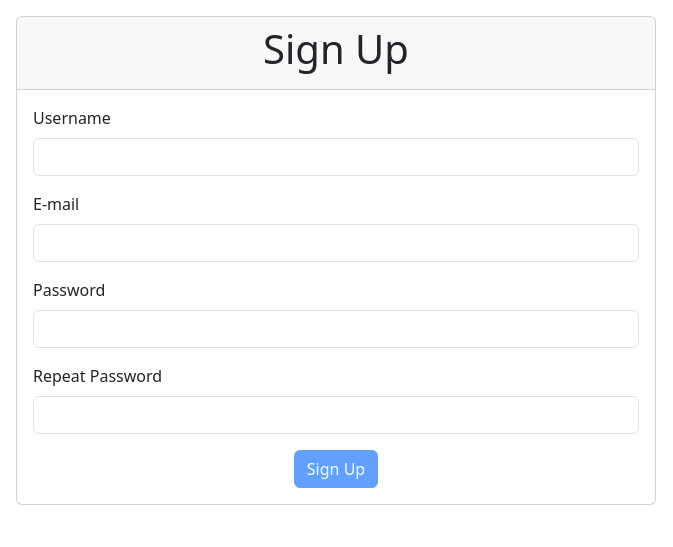
Test: Sign Up Page › Interactions › display E-mail cannot be null for field $field.
Type "GoodUser" into the field labelled "Username".
click(336, 157); type("GoodUser")  # box 33,138 -> 639,176
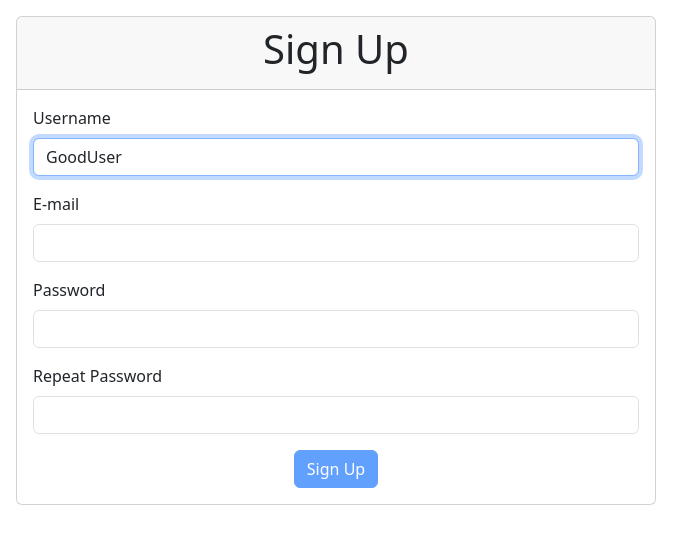
Type "my-email@host.com" into the field labelled "E-mail".
click(336, 243); type("my-email@host.com")  # box 33,224 -> 639,262
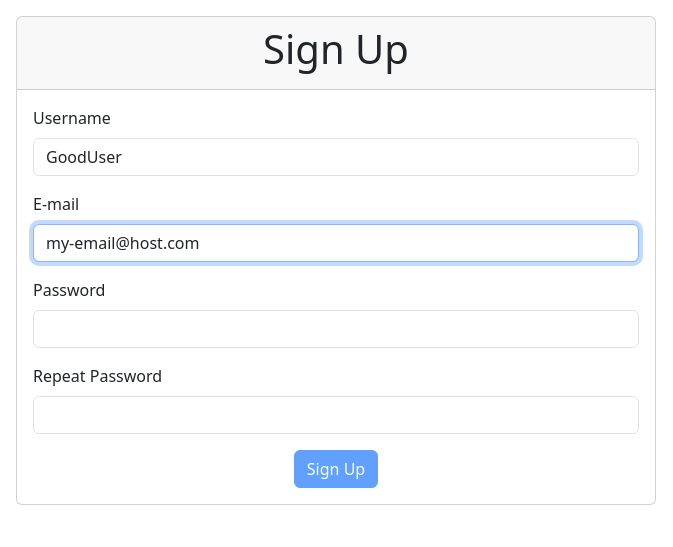
Type "myPassword@123" into the password field labelled "Password".
click(336, 329); type("myPassword@123")  # box 33,310 -> 639,348
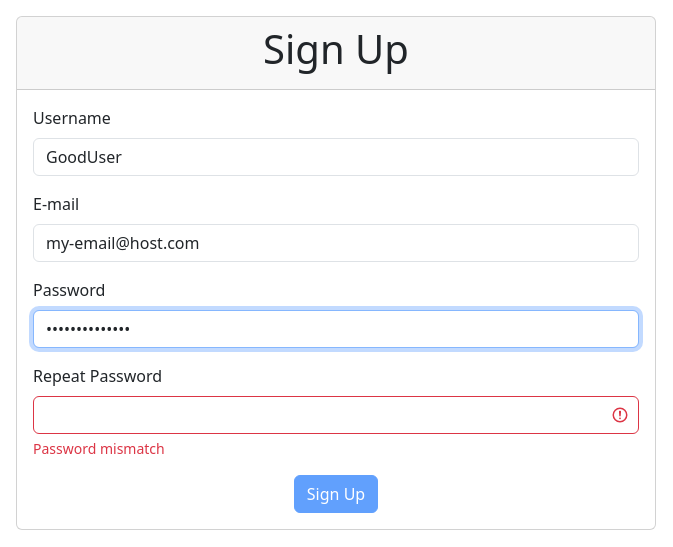
Type "myPassword@123" into the password field labelled "Repeat Password".
click(336, 415); type("myPassword@123")  # box 33,396 -> 639,434
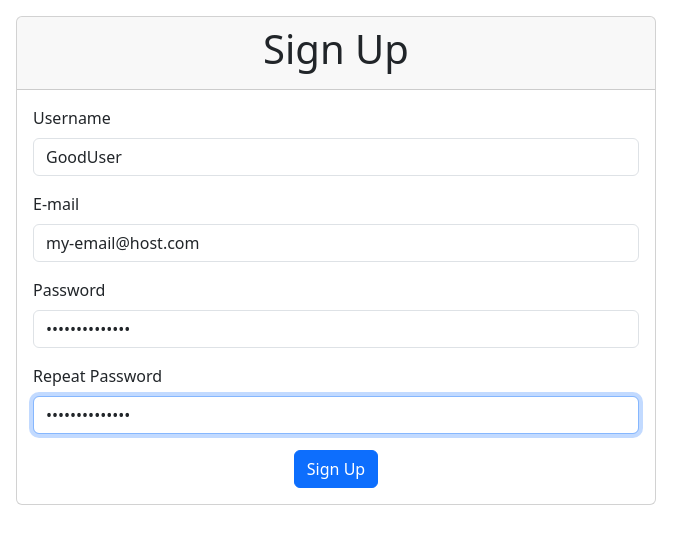
Click the button "Sign Up".
click(336, 469)  # box 294,450 -> 378,488
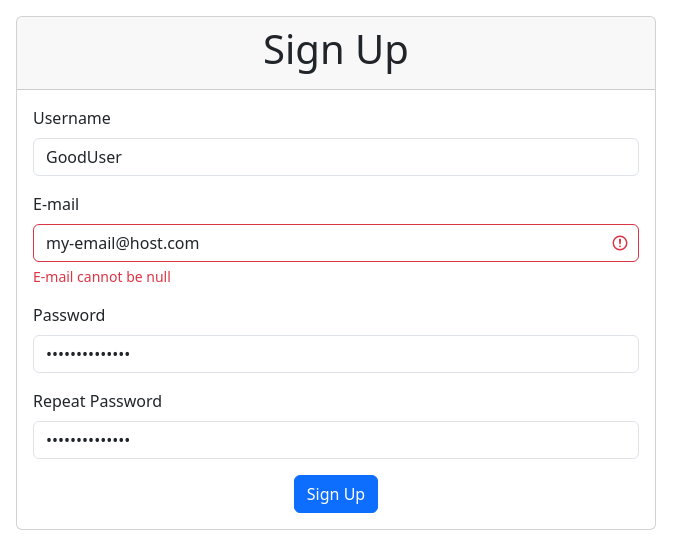
expect the text "E-mail cannot be null" is shown: met, box 33,267 -> 171,286
